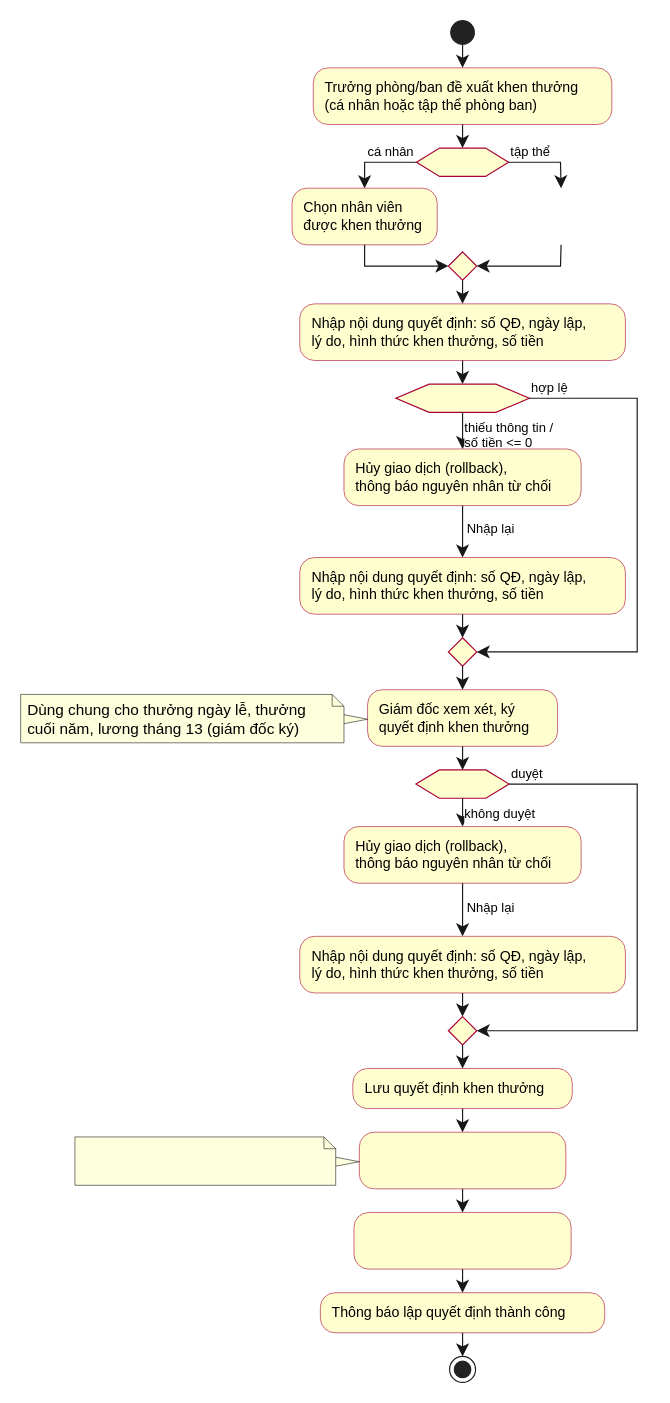
The diagram is 670 pixels wide and 1403 high, and some of its shapes have lost their labels. The centre of each missing label's shape, as x and y in pixels:
"Chi tiền thưởng cho cá nhân hoặc tập thể phòng ban" goes at (x=462, y=1240).
"Kiểm tra dữ liệu?" goes at (x=462, y=397).
"Lưu quyết định và lập phiếu chi nằm trong 1 transaction" goes at (x=204, y=1160).
"Lập phiếu chi khen thưởng tương ứng số tiền thưởng" goes at (x=462, y=1160).
"Xét duyệt?" goes at (x=462, y=783).
"Đối tượng?" goes at (x=462, y=161).
